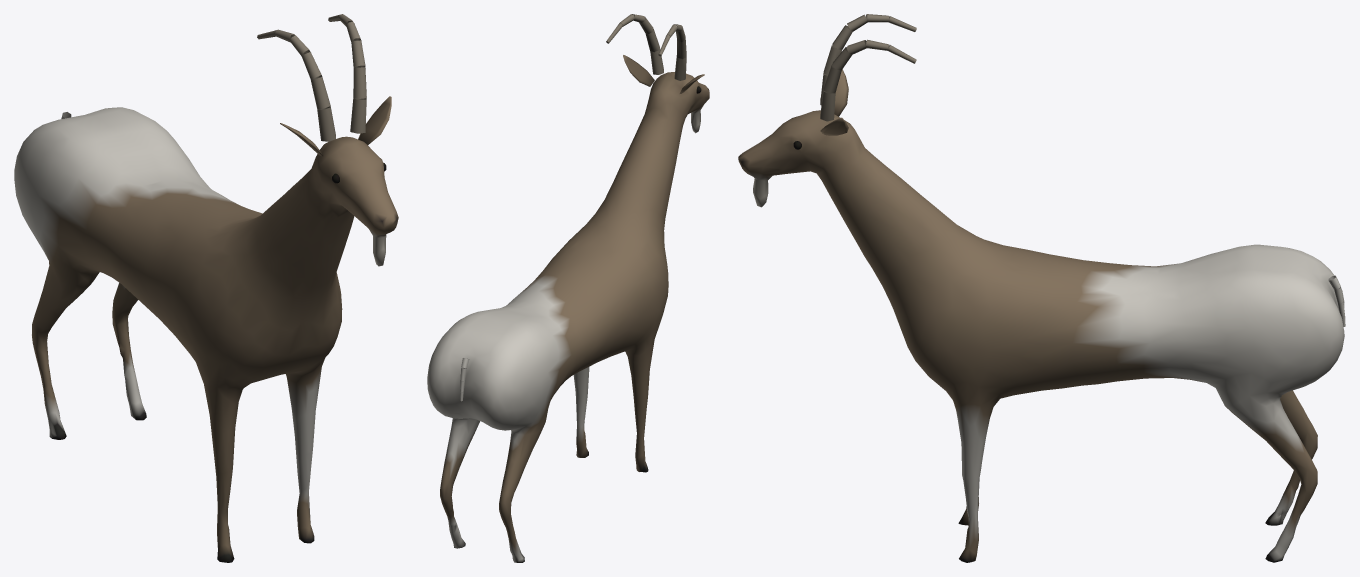
Rendered from ziege.glb.
3 renders of one model, left to right at view 1: azimuth 30°, elevation 25°; view 2: azimuth 150°, elevation 25°; view 3: azimuth 270°, elevation 25°, orthographic. The views are drawn at different scales.
Parts seen in each view (by area): view 1: lack; view 2: lack; view 3: lack.
Boxes of the visible parts, bbox=[...] form: lack: bbox=[14, 14, 398, 562]; lack: bbox=[427, 14, 709, 562]; lack: bbox=[738, 14, 1345, 562].
Bounding box in the file's own units: 0.33 × 1.28 × 1.37.
